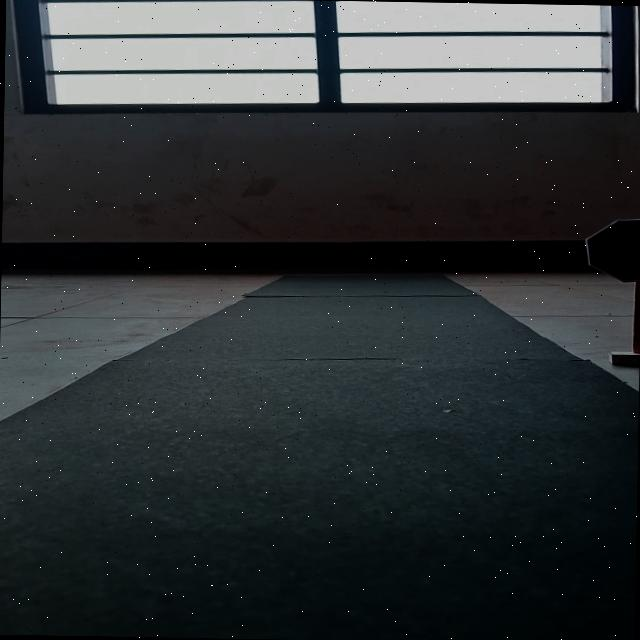Stop: (581, 215, 640, 281)
